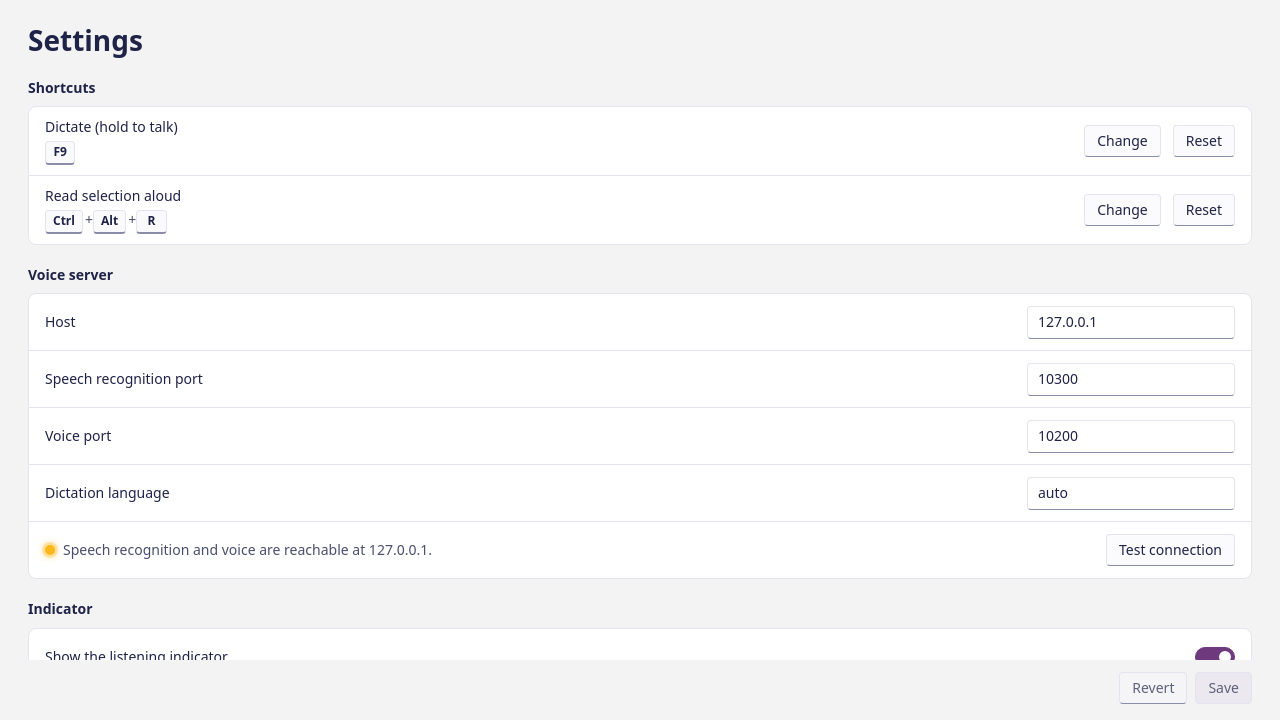
SettingsWindow fields › marks a field invalid only while its value is wrong
Clear the field labelled "Speech recognition port": (1131, 379) [1027,363,1235,396]
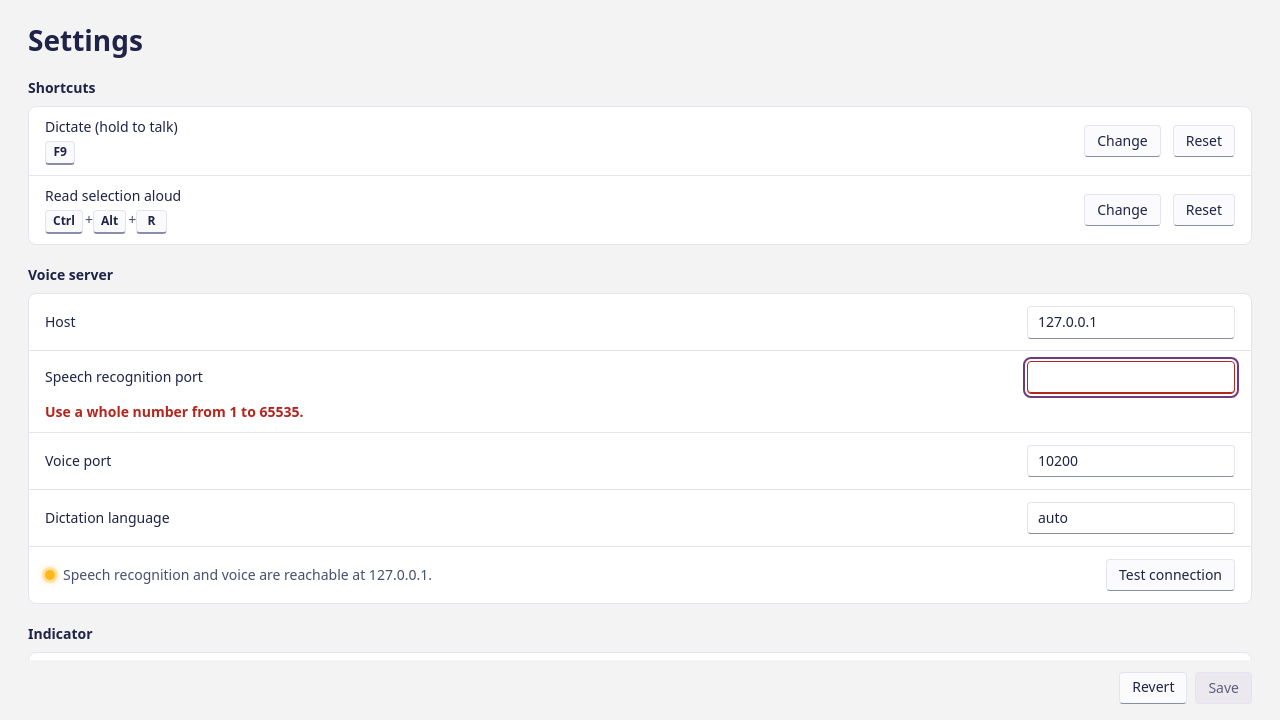
In the field labelled "Speech recognition port": (1131, 378) [1027,361,1235,394], type "70000"
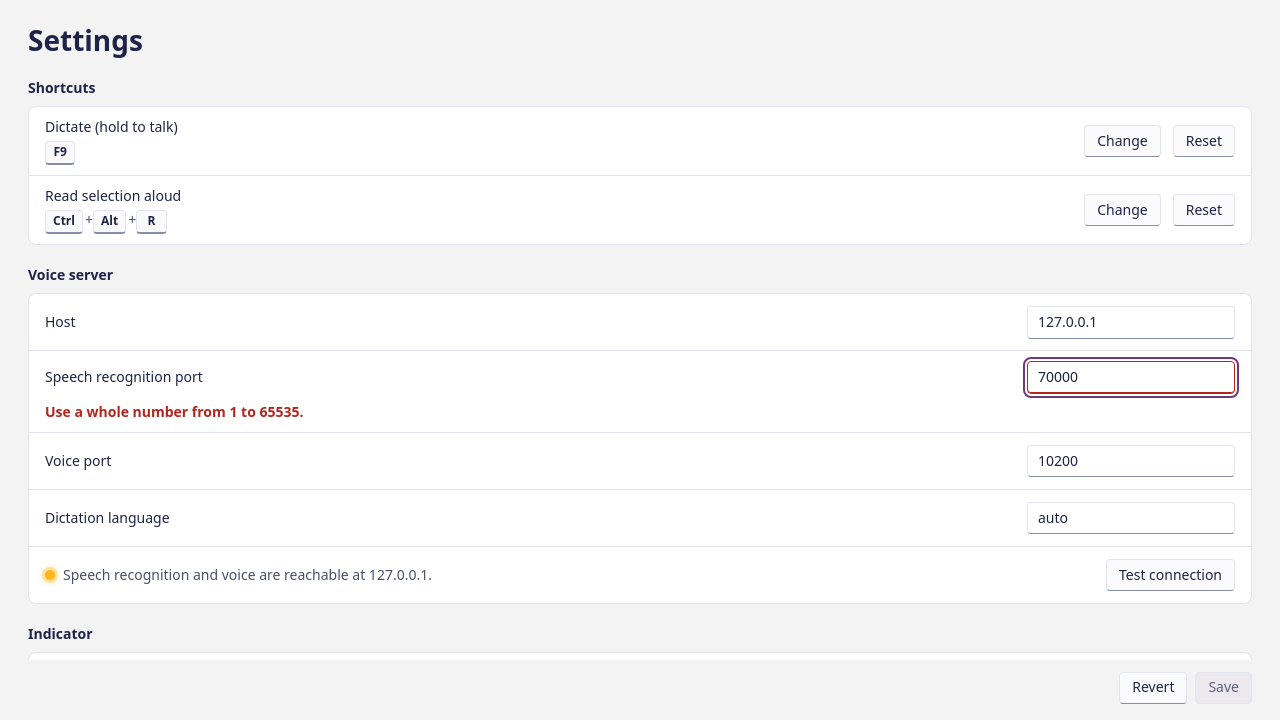
Expected: the button "Save" is disabled, [1195,672,1252,704]
Expected: the field labelled "Speech recognition port" is marked as invalid, [1027,361,1235,394]
Expected: the field labelled "Speech recognition port" has attribute aria-describedby="sttPort-error", [1027,361,1235,394]
